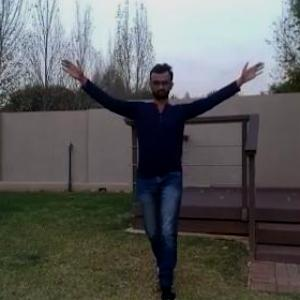takeoff: (67, 60, 267, 280)
